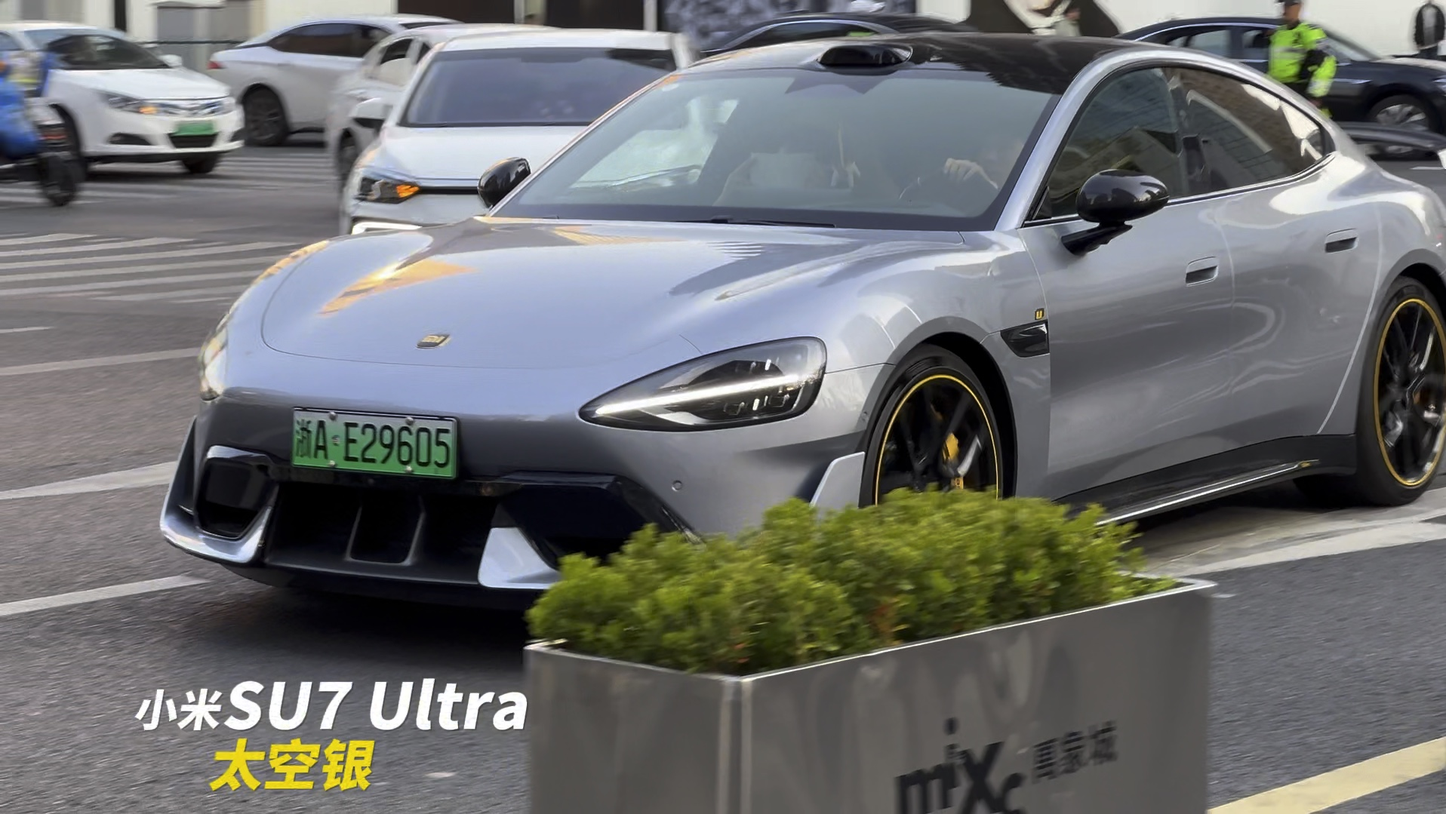other: (349, 29, 701, 238), (0, 7, 261, 192)
su7: (157, 35, 1446, 608)
